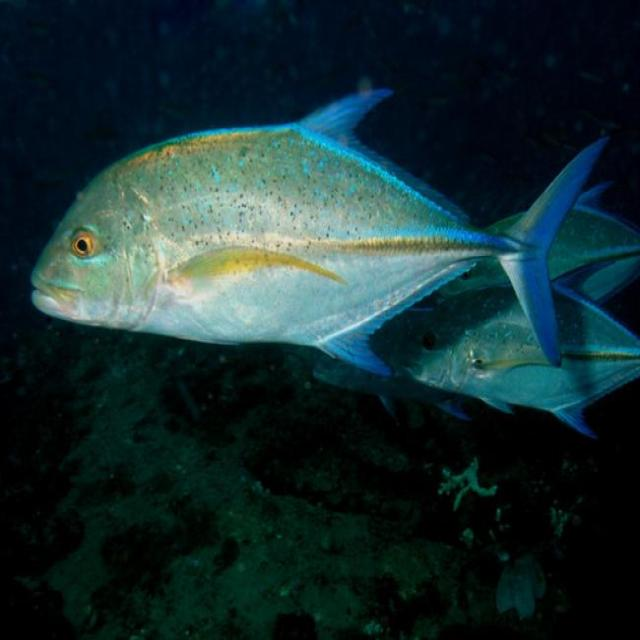ikan: (27, 84, 618, 380)
